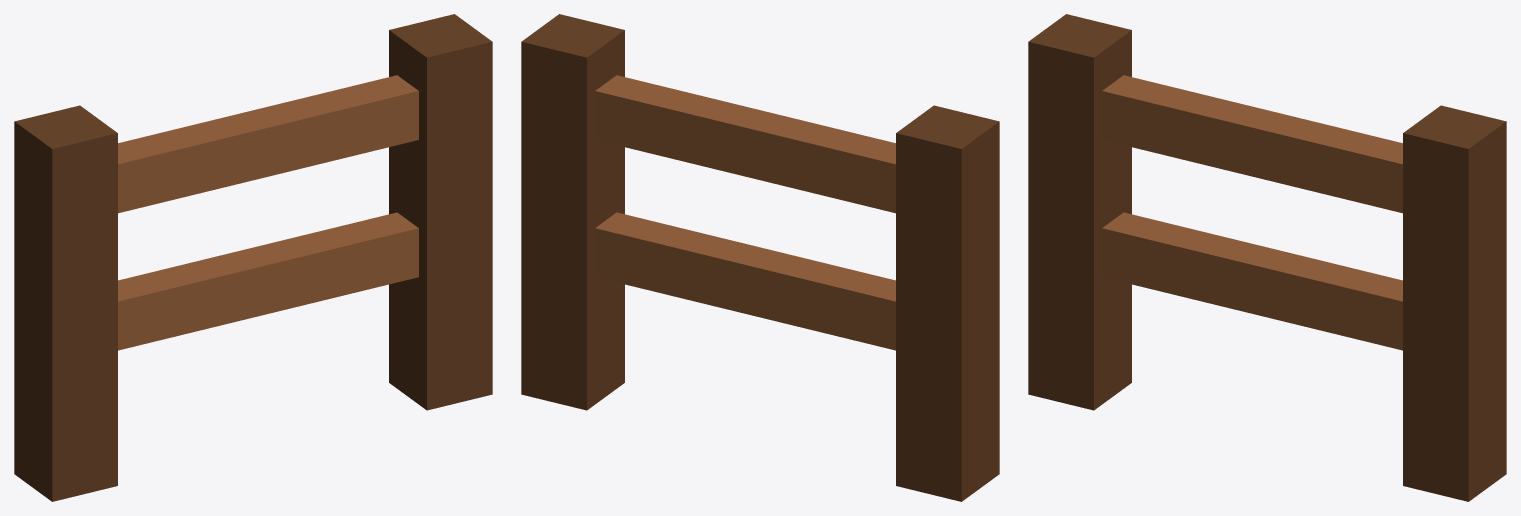
The model's file is Fence.fbx.
3 renders of one model, left to right at view 1: azimuth 30°, elevation 25°; view 2: azimuth 150°, elevation 25°; view 3: azimuth 330°, elevation 25°, orthographic.
Visible parts, largest first — view 1: Fence; view 2: Fence; view 3: Fence.
Part boxes in pixels (<box>): Fence: <box>14,14,492,501</box>; Fence: <box>521,14,999,501</box>; Fence: <box>1028,14,1506,501</box>.
Size of the model in its own units: 4.7 by 3.6 by 0.7.
1 material, 1 textured.
